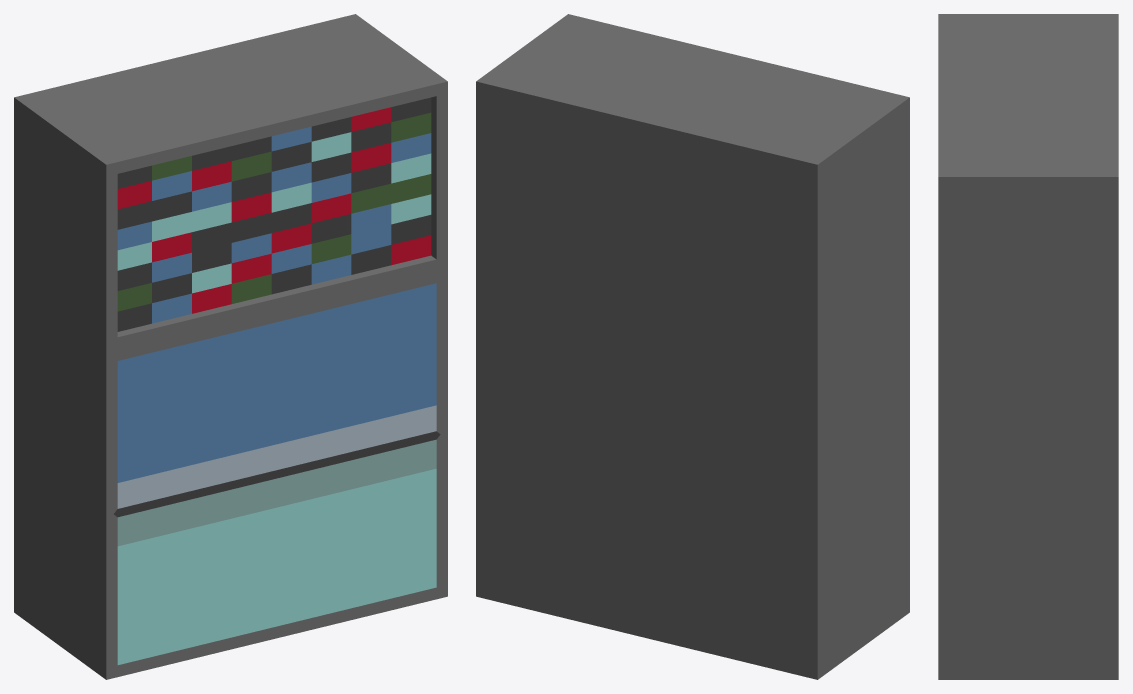
Rendered from MonitorPanel.fbx.
3 views of the same model, side by side, from view 1: azimuth 30°, elevation 25°; view 2: azimuth 150°, elevation 25°; view 3: azimuth 270°, elevation 25° (orthographic). The views are drawn at different scales.
Visible parts, largest first — view 1: MonitorPanel; view 2: MonitorPanel; view 3: MonitorPanel.
Part boxes in pixels (box(x1,y1,x2,y2)): MonitorPanel: box(14, 14, 447, 679); MonitorPanel: box(476, 14, 909, 679); MonitorPanel: box(938, 14, 1118, 679).
Size of the model in its own units: 428 by 617 by 200.
